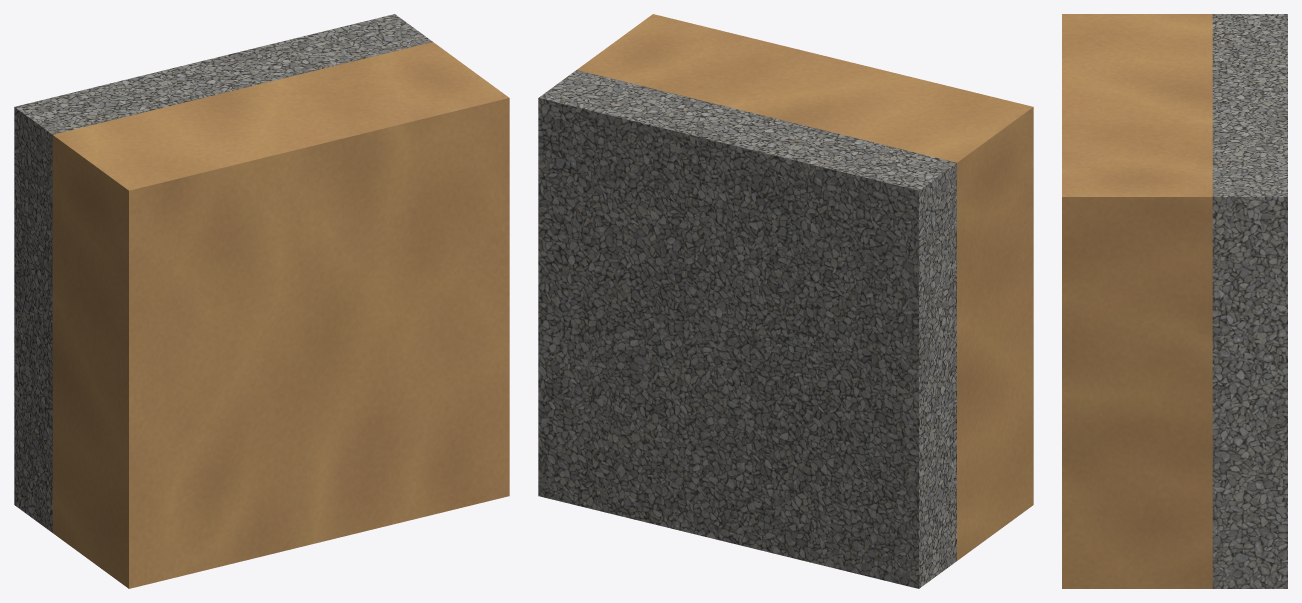
Rendered from SMR_1S.gltf.
3 views of the same model, side by side, from view 1: azimuth 30°, elevation 25°; view 2: azimuth 150°, elevation 25°; view 3: azimuth 270°, elevation 25° (orthographic).
Parts seen in each view (by area): view 1: Mesh_0.002, Mesh_1.001; view 2: Mesh_1.001, Mesh_0.002; view 3: Mesh_0.002, Mesh_1.001.
Boxes of the visible parts, x1,y1,x2,y2 form: Mesh_0.002: (52,42,509,588); Mesh_1.001: (14,14,432,532); Mesh_1.001: (538,70,956,588); Mesh_0.002: (577,14,1033,560); Mesh_0.002: (1062,14,1212,588); Mesh_1.001: (1212,14,1287,588).
Size of the model in its own units: 1.15 by 1.15 by 0.6.
Materials: 2 (2 with a texture image).
